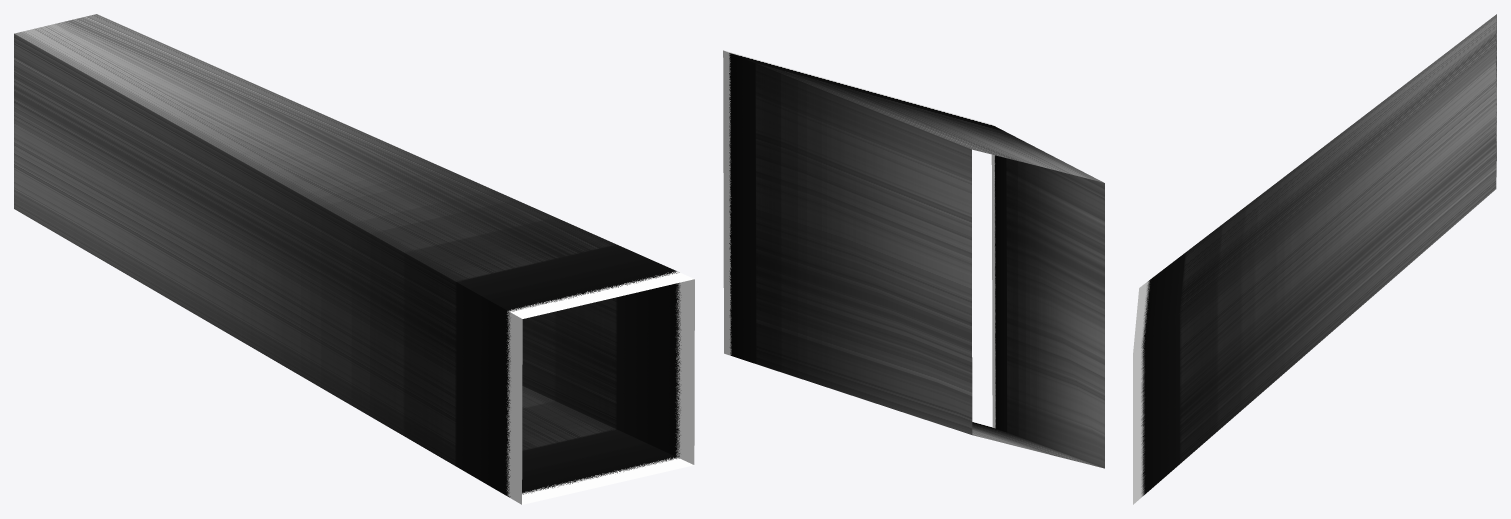
File: GodRays2.fbx
The picture shows the model from 3 angles, left to right: view 1: azimuth 30°, elevation 25°; view 2: azimuth 150°, elevation 25°; view 3: azimuth 270°, elevation 25°; orthographic projection. The views are drawn at different scales.
Parts seen in each view (by area): view 1: pCube3; view 2: pCube3; view 3: pCube3.
Part boxes in pixels (<box>): pCube3: <box>14,14,694,504</box>; pCube3: <box>723,50,1104,468</box>; pCube3: <box>1133,14,1496,504</box>.
Bounding box in the file's own units: 10.69 × 8.51 × 9.03.
1 material, 1 textured.
